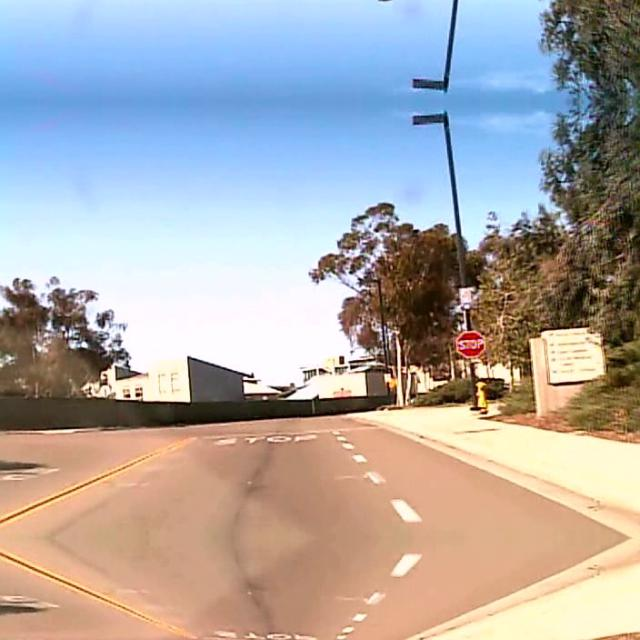stop: (455, 329, 485, 357)
